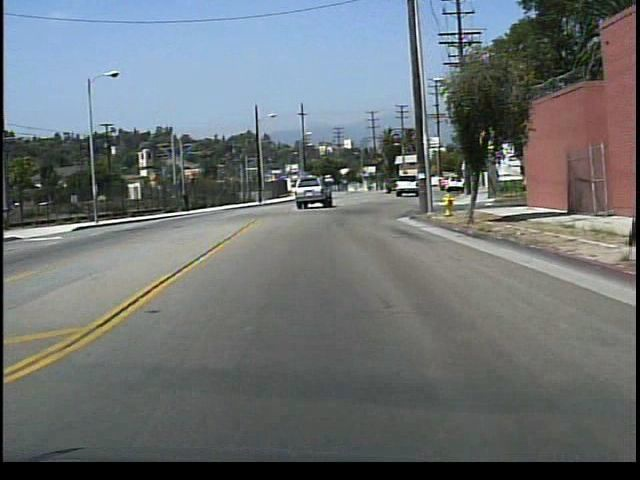person: (182, 189, 192, 213)
